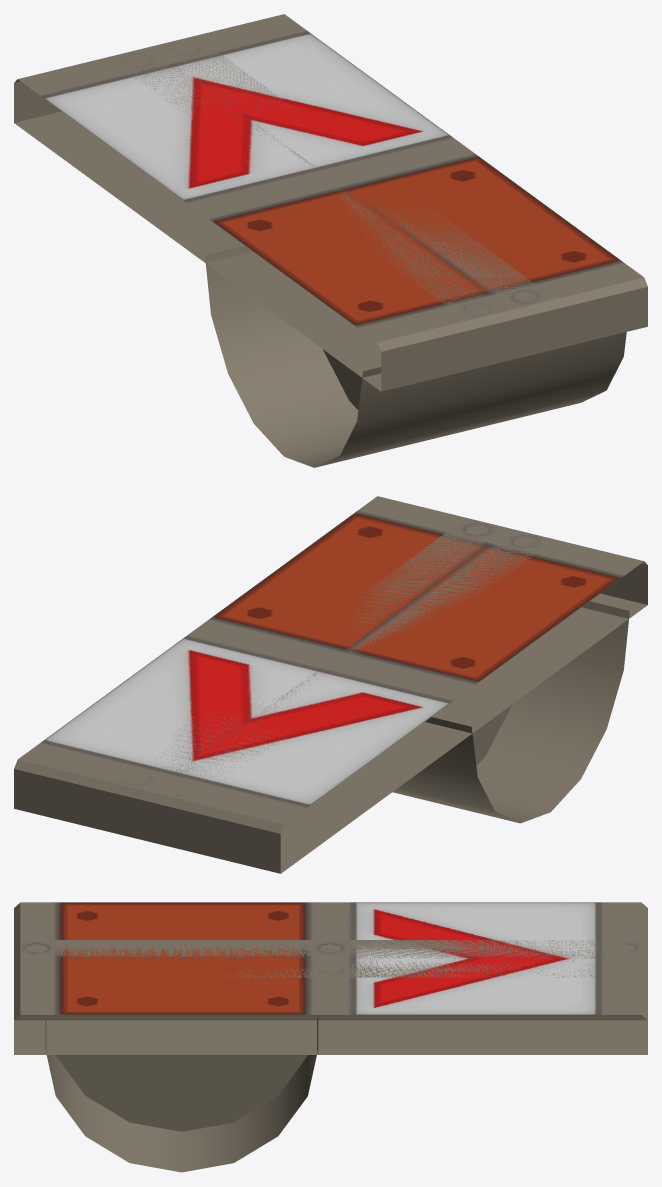
File: JumpSlim_Prefab.fbx
3 views of the same model, one above another, from view 1: azimuth 30°, elevation 25°; view 2: azimuth 150°, elevation 25°; view 3: azimuth 270°, elevation 25° (orthographic). The views are drawn at different scales.
Visible parts, largest first — view 1: Board, Frame1, Frame0; view 2: Board, Frame1, Frame0; view 3: Board, Frame0, Frame1.
Part boxes in pixels (x1,y1,x2,y2): Board: (14, 14, 647, 467); Frame1: (108, 47, 514, 443); Frame0: (152, 39, 565, 429); Board: (14, 496, 647, 873); Frame1: (147, 528, 555, 844); Frame0: (96, 518, 510, 841); Board: (14, 902, 647, 1172); Frame0: (14, 958, 646, 1131); Frame1: (14, 940, 647, 963).
Size of what is drawn, in the model's own units: 4.19 by 2.74 by 10.
